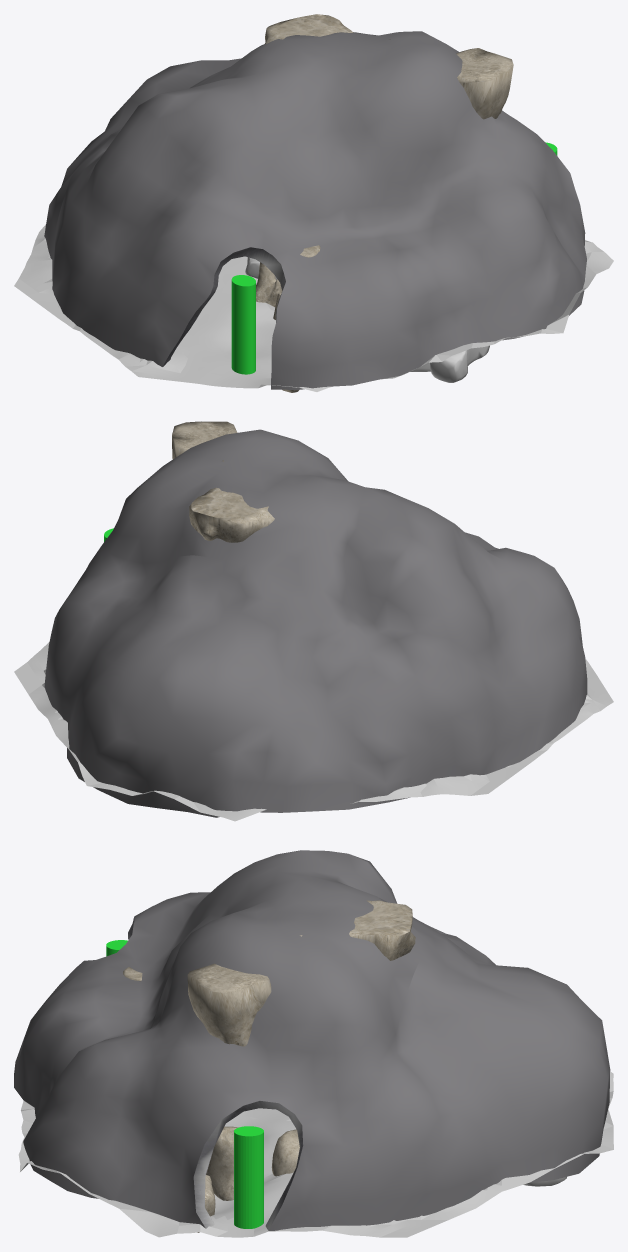
The model's file is Full.fbx.
3 views of the same model, one above another, from view 1: azimuth 30°, elevation 25°; view 2: azimuth 150°, elevation 25°; view 3: azimuth 270°, elevation 25° (orthographic). The views are drawn at different scales.
Visible parts, largest first — view 1: Cube.001, Floor, pilar2.001, Entrance 2, pilar1.001, smallrockcluster.001, pilar2_1.003; view 2: Cube.001, Floor, pilar1.001, pilar2.001; view 3: Cube.001, Floor, pilar2.001, Entrance 1, pilar1.001, pilar3.001, pilar7.002.
Part boxes in pixels (x1,y1,x2,y2): Cube.001: [44, 31, 586, 389]; Floor: [14, 224, 613, 391]; pilar2.001: [456, 48, 513, 119]; Entrance 2: [231, 275, 255, 374]; pilar1.001: [265, 14, 353, 44]; smallrockcluster.001: [410, 345, 489, 382]; pilar2_1.003: [256, 262, 282, 306]; Cube.001: [44, 429, 587, 817]; Floor: [14, 642, 613, 821]; pilar1.001: [189, 487, 274, 542]; pilar2.001: [172, 421, 237, 459]; Cube.001: [14, 850, 610, 1230]; Floor: [18, 1071, 613, 1237]; pilar2.001: [187, 963, 271, 1046]; Entrance 1: [234, 1126, 263, 1228]; pilar1.001: [349, 900, 415, 960]; pilar3.001: [206, 1126, 238, 1200]; pilar7.002: [271, 1129, 299, 1176].
Size of the model in its own units: 964 by 479 by 996.
